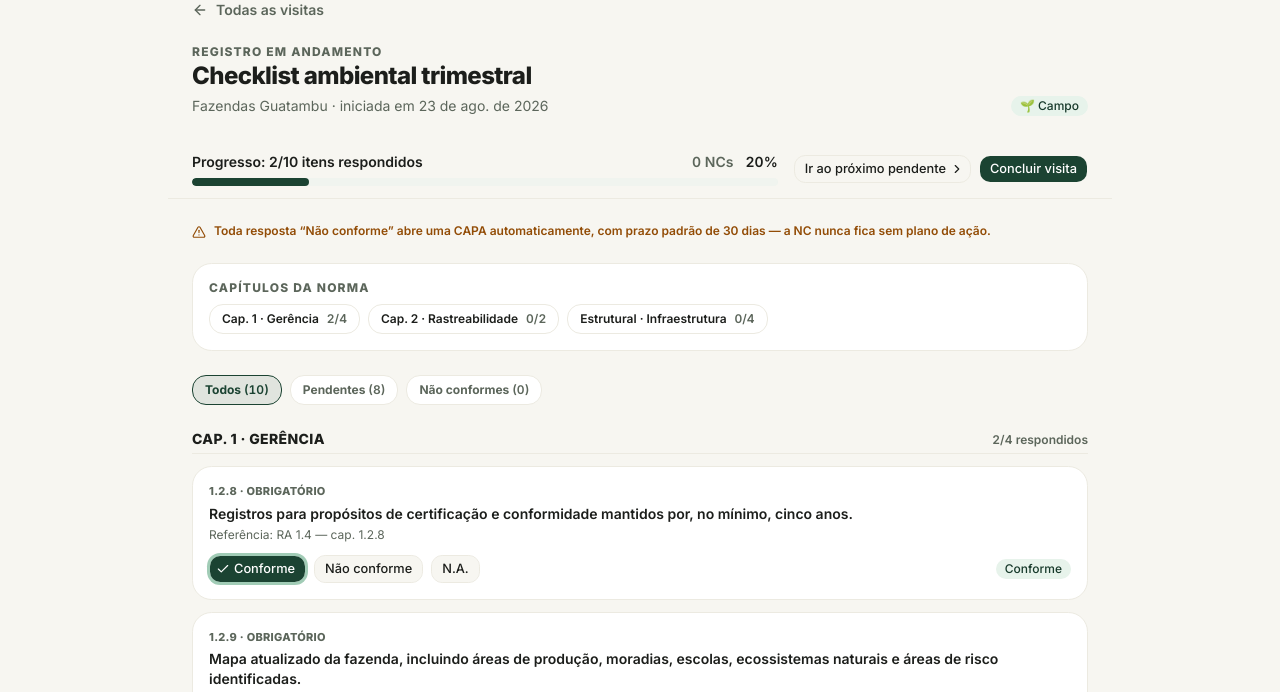
Test: ExecucaoVisita — fotos de evidência na NC › no modo demonstração o anexo fica desabilitado com aviso amigável
Click the button "Não conforme" below "RA 1.4 — cap. 1.2.8": (369, 569) [314,555,423,583]
(page scrolled)
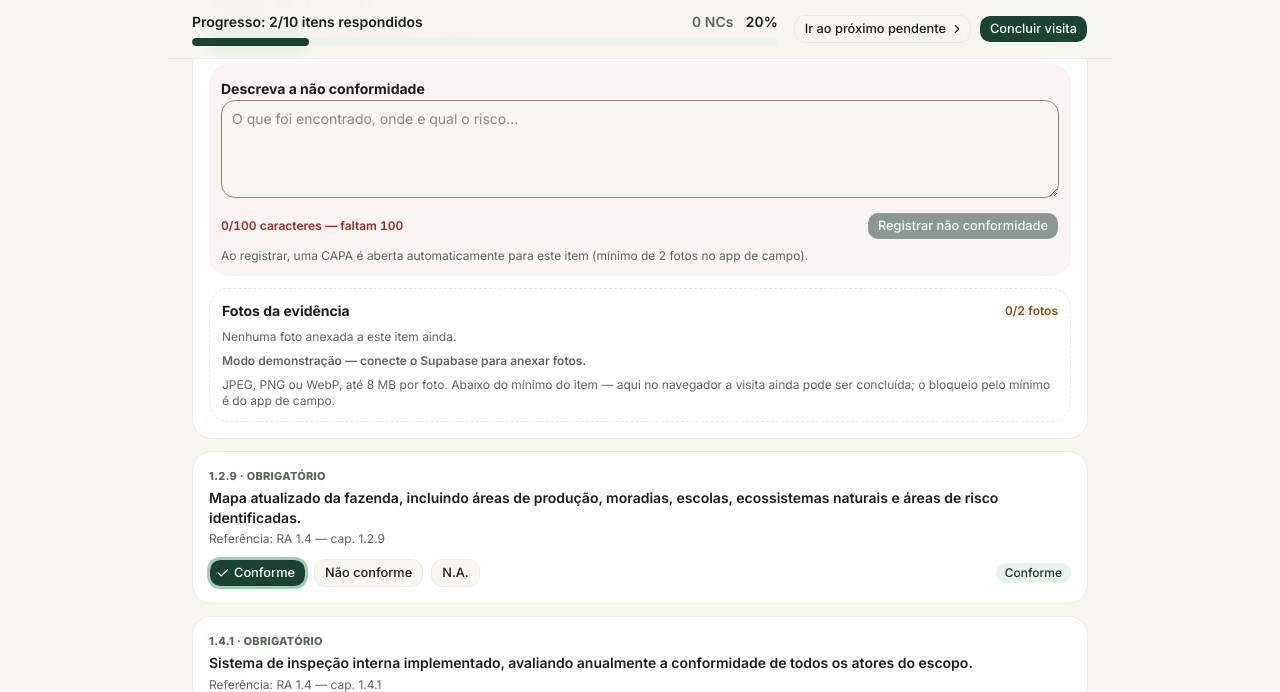
Check: the text "Modo demonstração — conecte o Supabase para anexar fotos." is shown, box [222,353,586,368]
